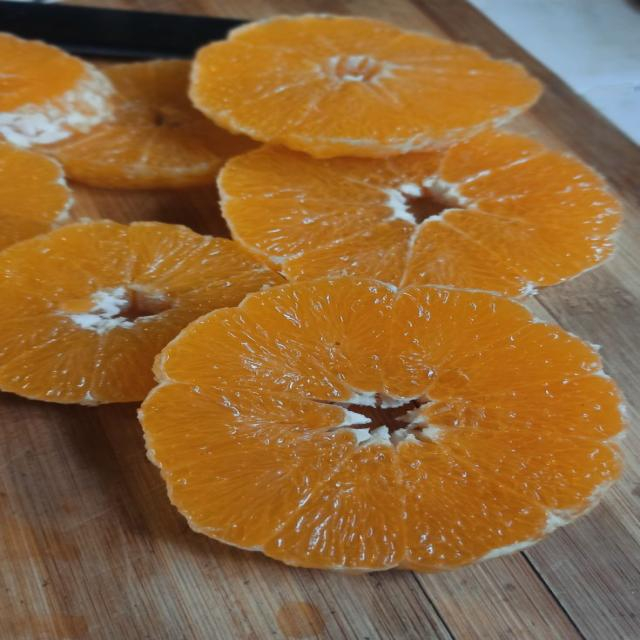orange: (141, 278, 623, 571), (219, 131, 619, 295), (0, 221, 282, 404), (190, 15, 540, 158), (49, 60, 255, 188), (0, 34, 112, 146), (0, 141, 72, 250)
